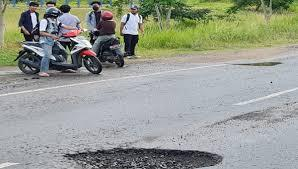Pothole: (71, 139, 231, 168), (219, 49, 291, 71)
